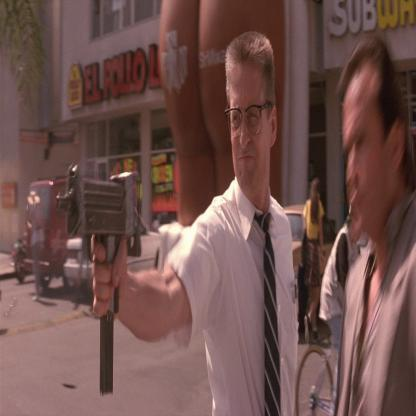gun: (53, 154, 142, 374)
